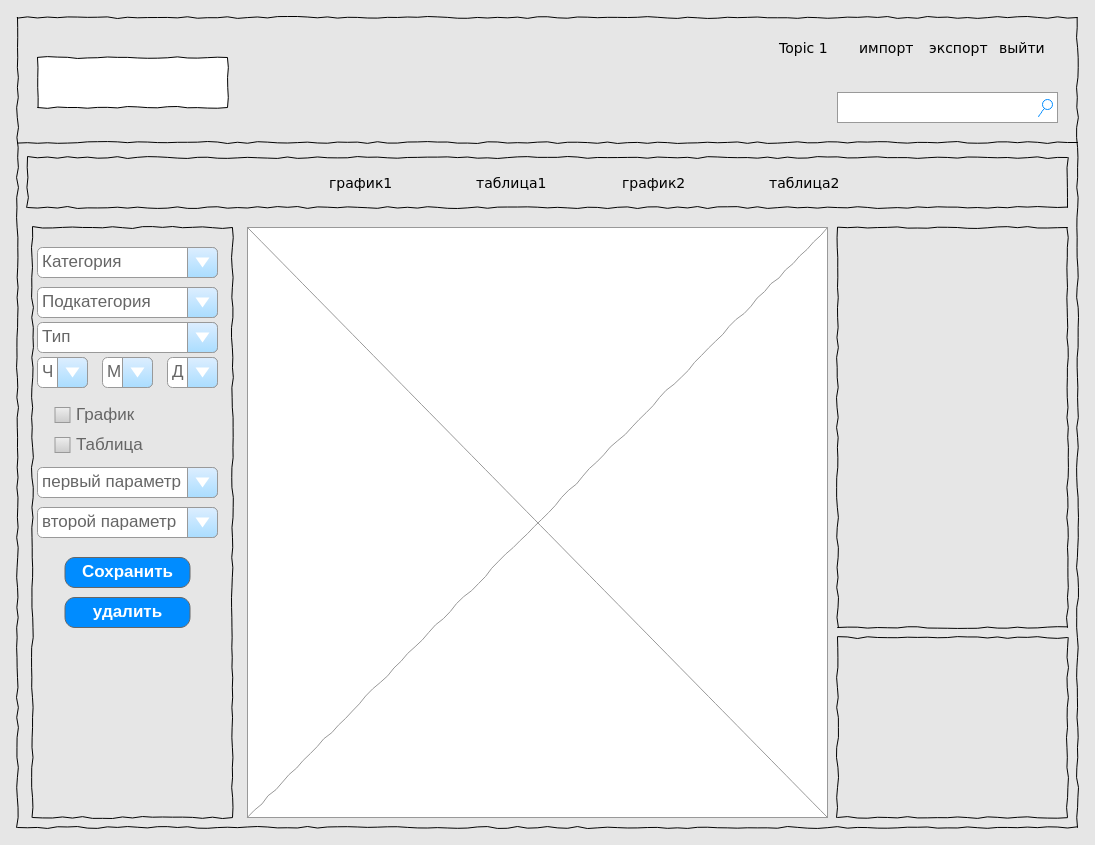
This 1095x845 diagram has some shape labels left out. Each missing label, with the centre of its shape:
"Search" belongs at (x=947, y=107).
"Отчёты" belongs at (x=132, y=82).
